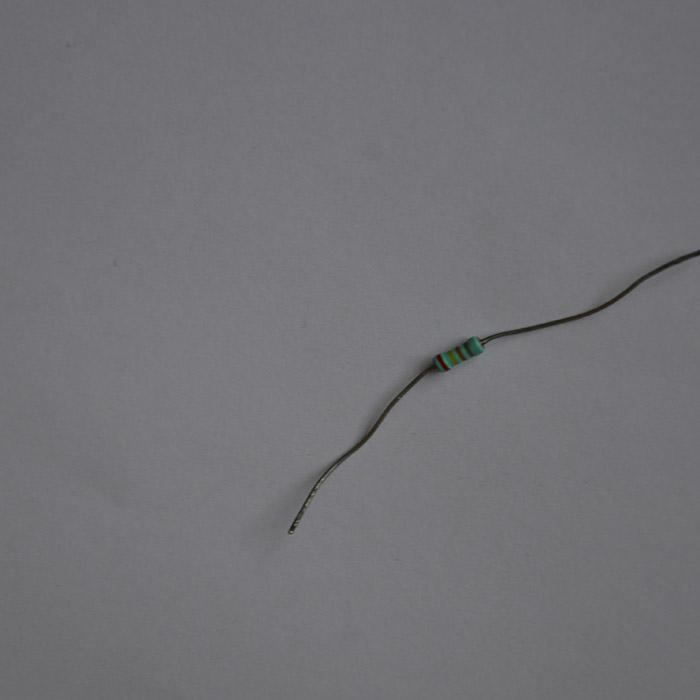resistor: (432, 335, 485, 372)
